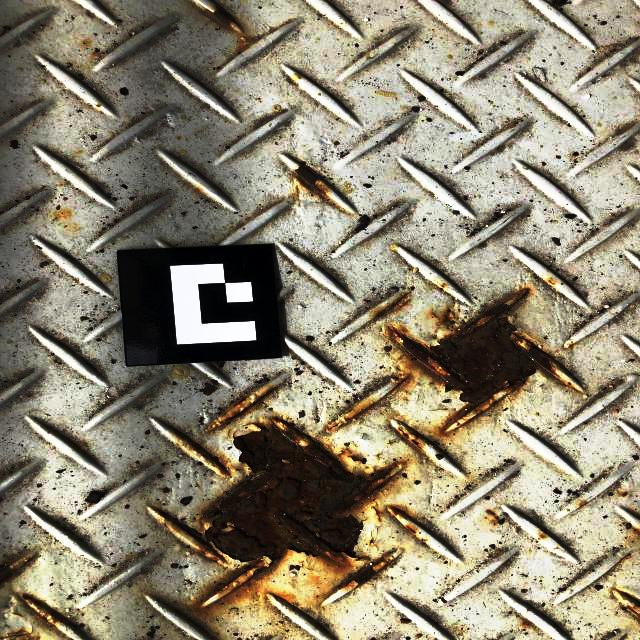Corrosion: (177, 416, 407, 605), (385, 287, 574, 432), (204, 384, 277, 433), (173, 431, 232, 478), (338, 553, 396, 589), (19, 594, 66, 630), (326, 401, 376, 432), (294, 164, 331, 199), (0, 555, 36, 588), (369, 293, 409, 320), (396, 426, 429, 454), (204, 5, 237, 32), (619, 590, 640, 621), (0, 626, 40, 640), (338, 447, 368, 465), (389, 373, 412, 393), (439, 309, 457, 326), (267, 591, 292, 603), (388, 505, 410, 517), (485, 509, 500, 524), (371, 505, 383, 523), (155, 510, 169, 520), (406, 525, 417, 535), (10, 611, 25, 618), (522, 619, 533, 627), (578, 501, 589, 508), (369, 537, 375, 547), (438, 281, 446, 288), (548, 279, 556, 285), (621, 492, 628, 497), (540, 534, 544, 539)
